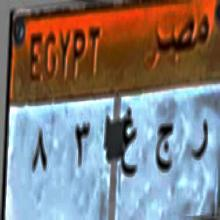3: (71, 115, 96, 175)
7: (32, 120, 51, 182)
ghayn: (118, 98, 142, 194)
jeem: (151, 116, 178, 182)
raa: (188, 116, 210, 169)
